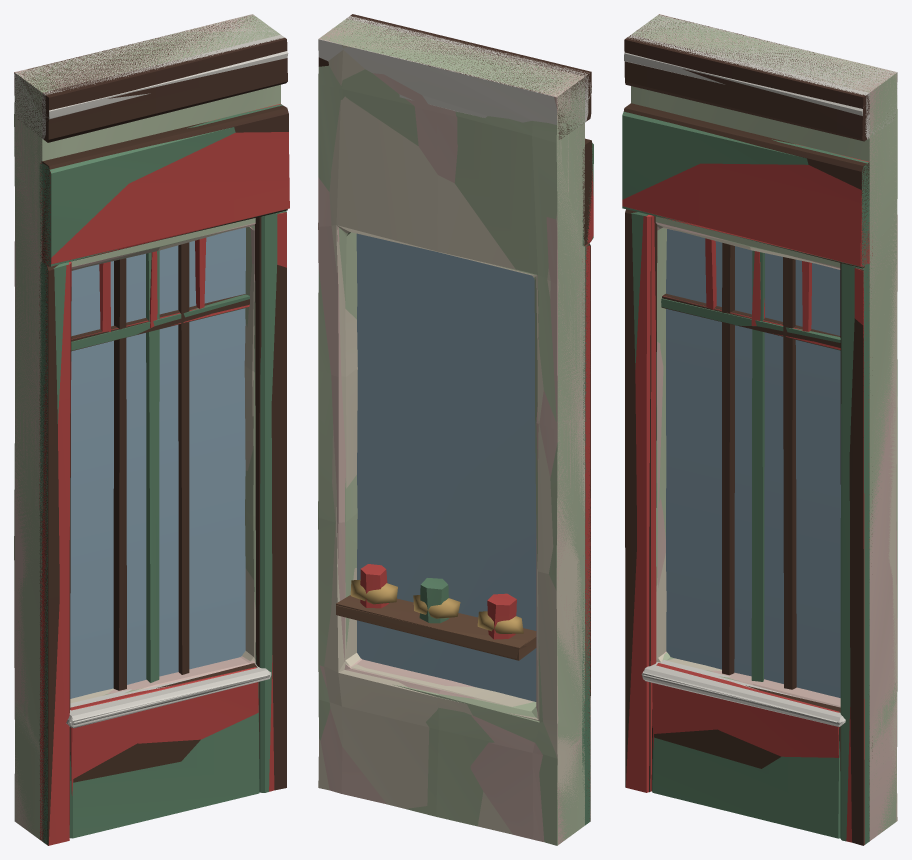
File: wall.shopfront.glb
3 views of the same model, side by side, from view 1: azimuth 30°, elevation 25°; view 2: azimuth 150°, elevation 25°; view 3: azimuth 330°, elevation 25° (orthographic).
Visible parts, largest first — view 1: wall.shopfront.v0.mesh, wall.shopfront.v1.mesh, wall.shopfront.v2.mesh; view 2: wall.shopfront.v0.mesh, wall.shopfront.v2.mesh, wall.shopfront.v1.mesh; view 3: wall.shopfront.v0.mesh, wall.shopfront.v1.mesh, wall.shopfront.v2.mesh.
Boxes of the visible parts, box(x1,y1,x2,y2) form: wall.shopfront.v0.mesh: box(14, 14, 287, 845); wall.shopfront.v1.mesh: box(14, 14, 288, 845); wall.shopfront.v2.mesh: box(14, 16, 289, 845); wall.shopfront.v0.mesh: box(318, 16, 593, 845); wall.shopfront.v2.mesh: box(318, 16, 593, 842); wall.shopfront.v1.mesh: box(318, 14, 592, 844); wall.shopfront.v0.mesh: box(622, 15, 897, 844); wall.shopfront.v1.mesh: box(623, 14, 897, 845); wall.shopfront.v2.mesh: box(622, 14, 897, 844).
Size of the model in its own units: 0.9999 by 3 by 0.3563.
